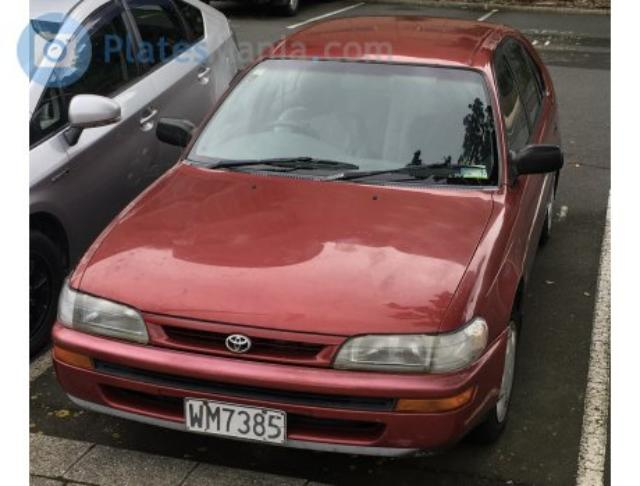Rego: (185, 399, 286, 446)
